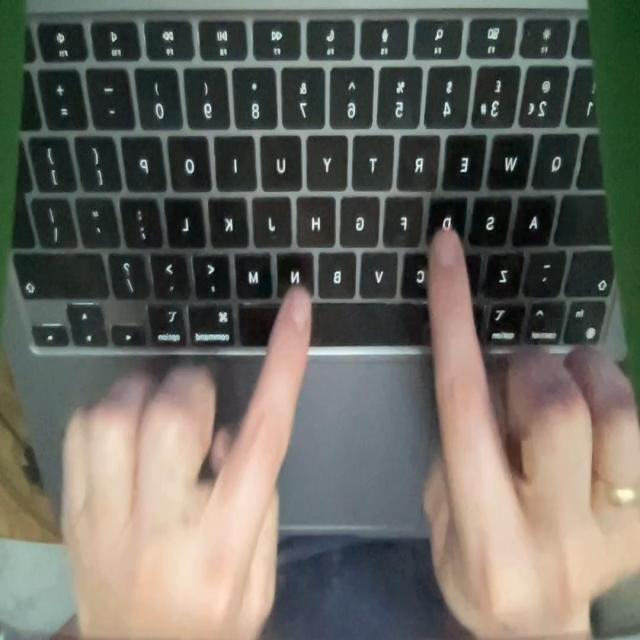keyboard-with-hands: (0, 0, 627, 533)
